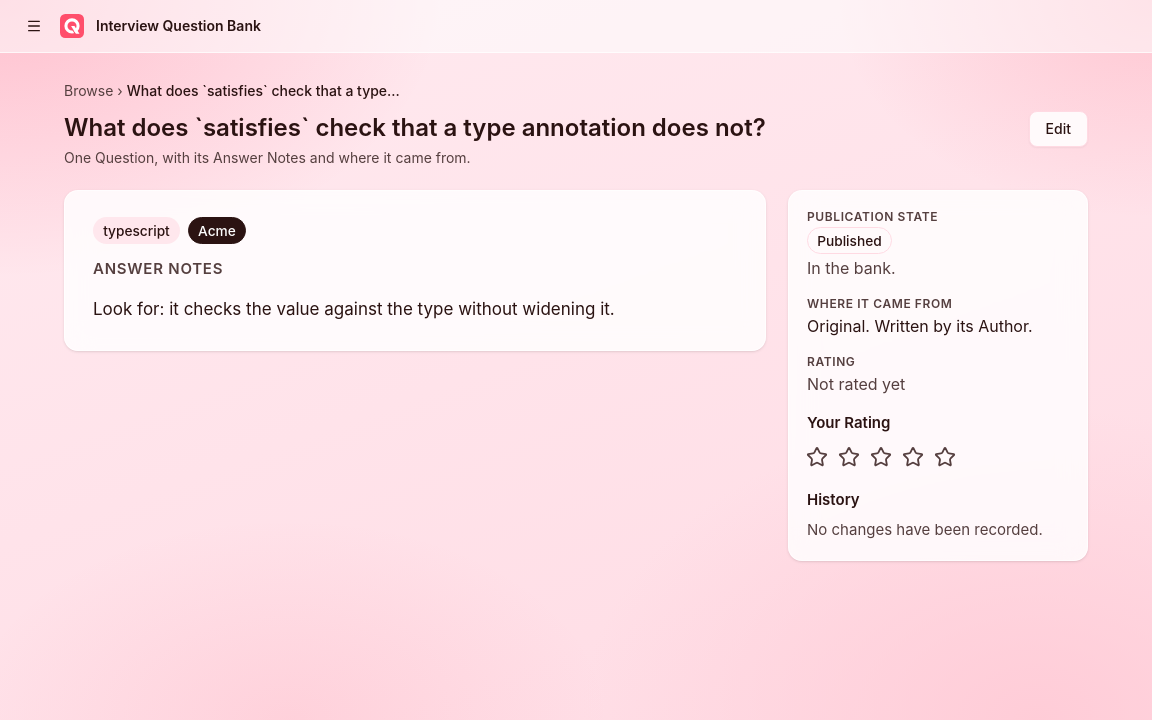
Test: changing a Question's Clients by editing it › sends the whole new list when a Client is added, and shows it
The image size is (1152, 720).
Click the link "Edit" at (1058, 129), box [1029,111,1088,147]
(page scrolled)
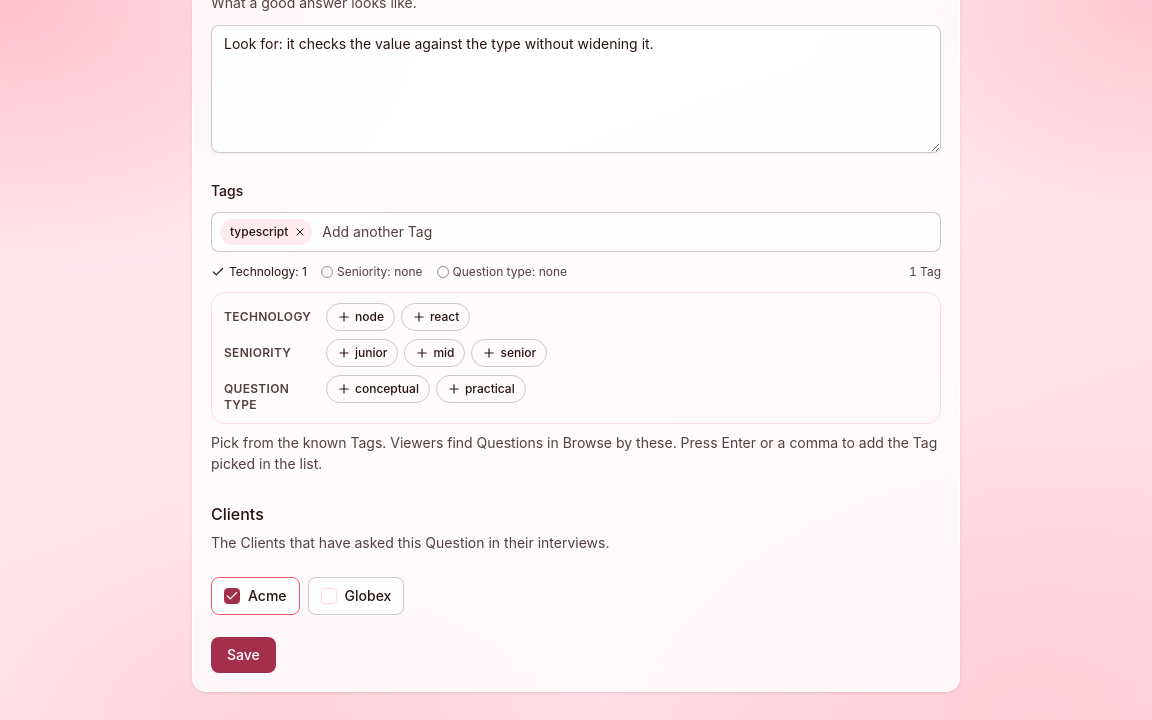
Click the checkbox named "Globex" next to "Globex" at (329, 596), box [321,588,337,604]
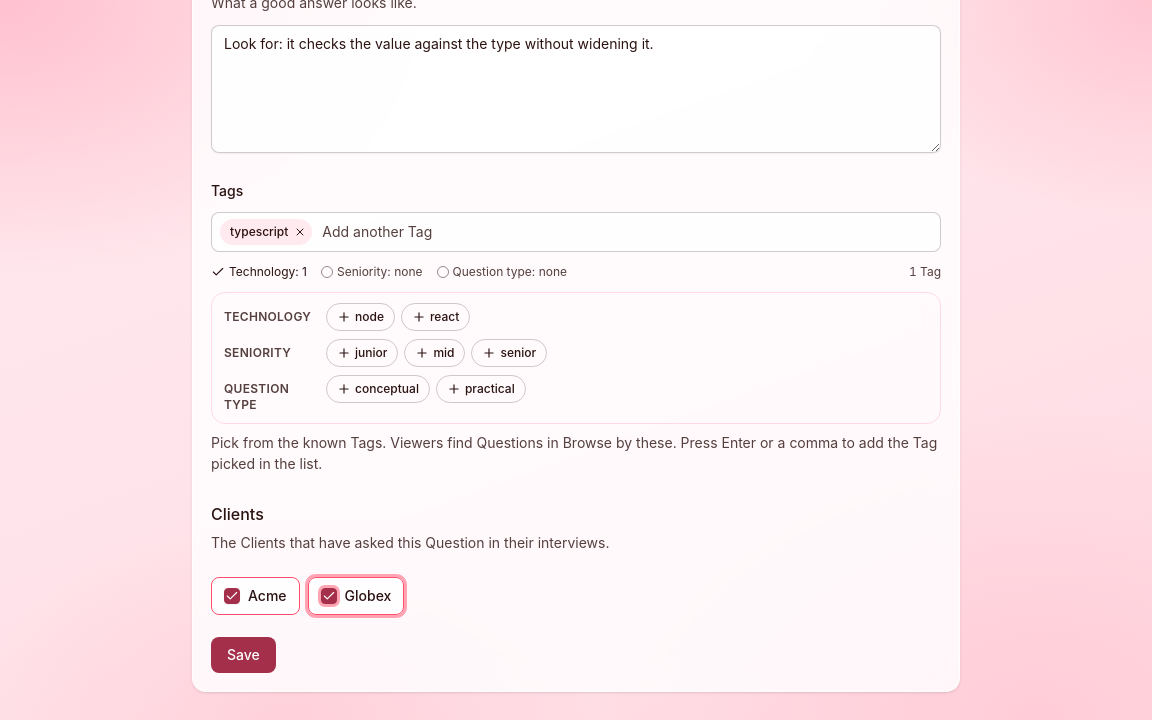
Click the button "Save" at (243, 655), box [211,637,276,673]
(page scrolled)
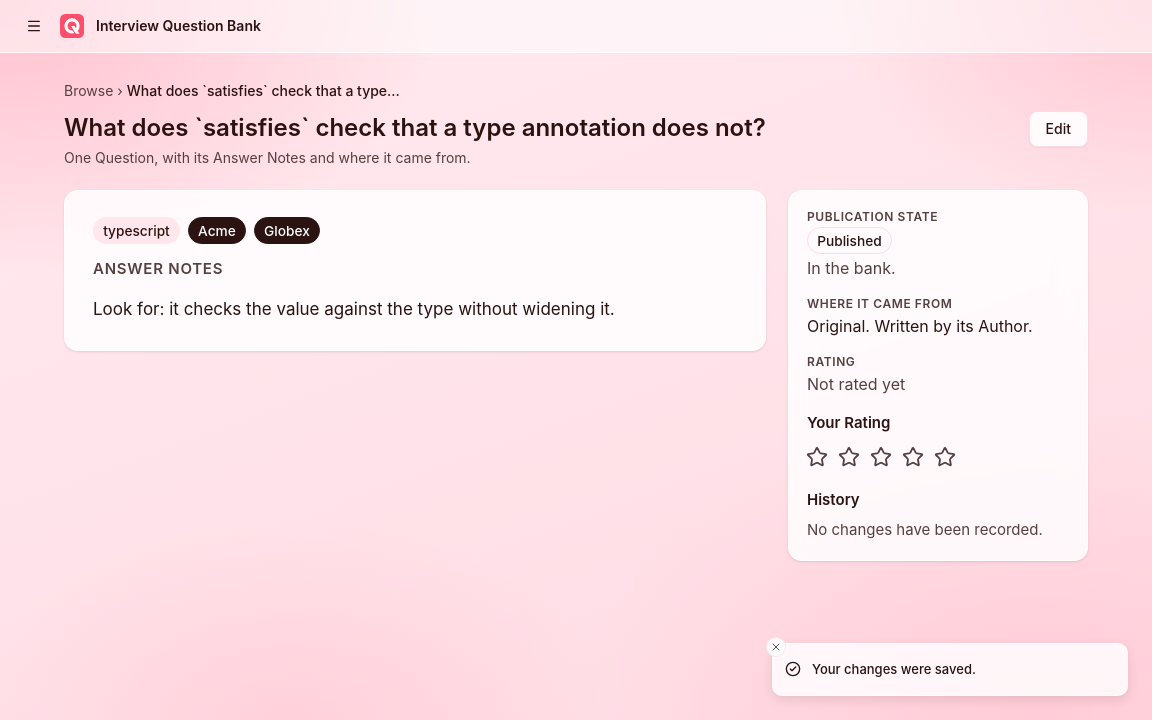
Now the heading "What does `satisfies` check that a type annotation does not?" is shown, box [64,113,766,142]
Now the list items read "Acme", "Globex", in this order, box [188,217,246,244]; [254,217,320,244]
